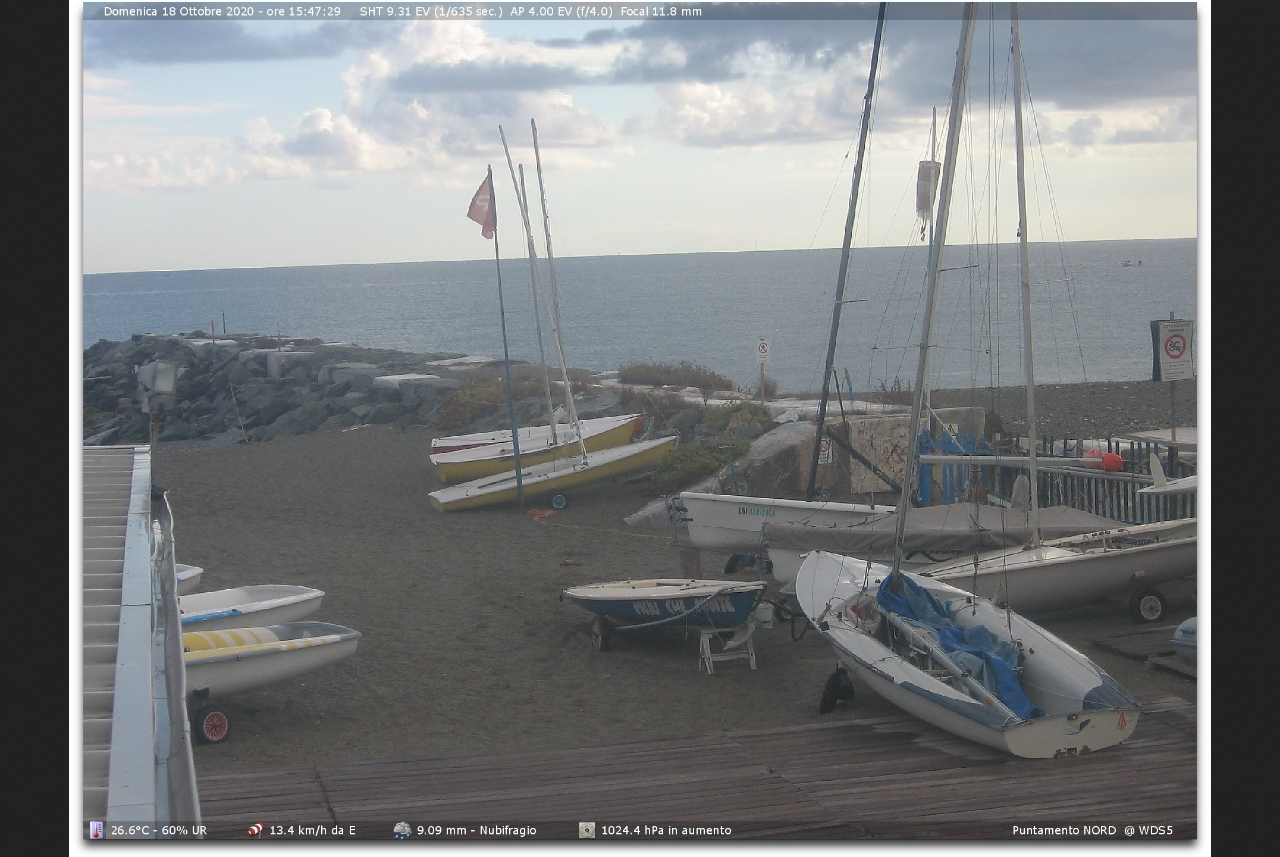no: (466, 165, 501, 244)
